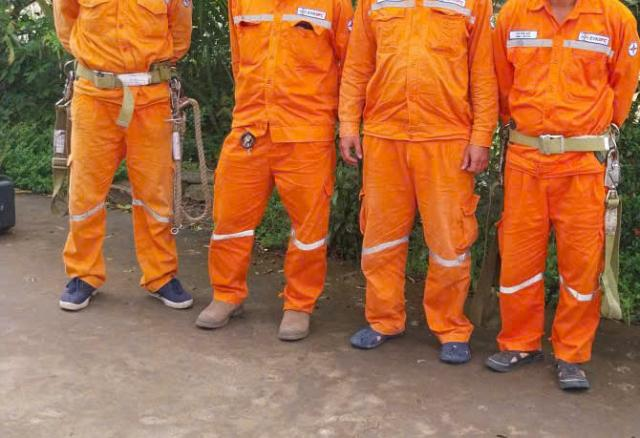harness: (504, 109, 632, 161), (59, 50, 177, 97)
shoes: (184, 285, 245, 335), (46, 266, 102, 313), (345, 313, 402, 358), (490, 332, 543, 377), (267, 300, 316, 346), (551, 347, 596, 397), (132, 279, 193, 312), (435, 327, 474, 368)
